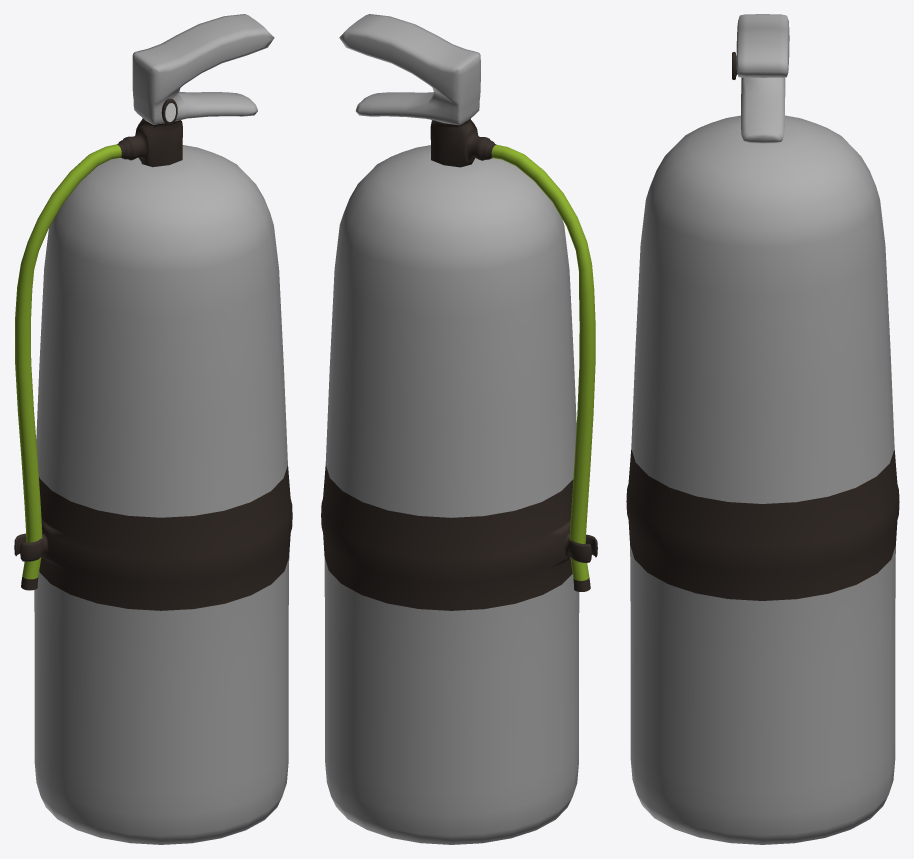
Rendered from Extingisher.fbx.
The picture shows the model from 3 angles, left to right: view 1: azimuth 30°, elevation 25°; view 2: azimuth 150°, elevation 25°; view 3: azimuth 270°, elevation 25°; orthographic projection. The views are drawn at different scales.
Parts seen in each view (by area): view 1: Extingisher; view 2: Extingisher; view 3: Extingisher.
Boxes of the visible parts, bbox=[...] form: Extingisher: bbox=[14, 14, 292, 844]; Extingisher: bbox=[321, 14, 597, 844]; Extingisher: bbox=[626, 14, 899, 844].
Bounding box in the file's own units: 35.18 × 99.33 × 31.02.
